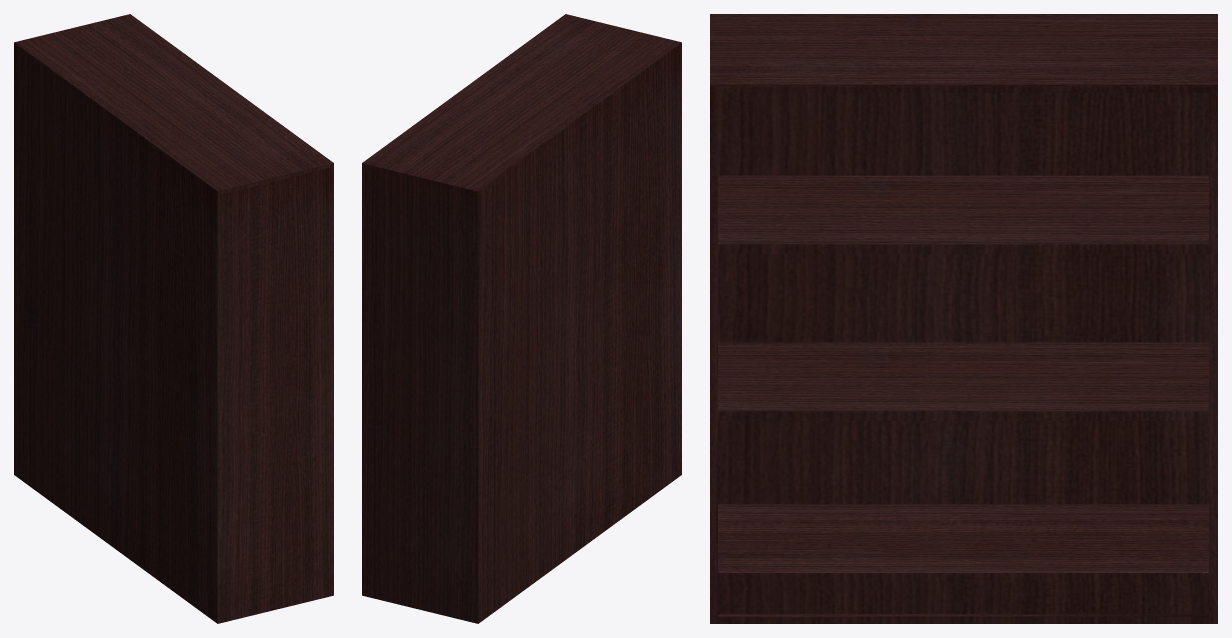
Rendered from bookcase_1.obj.
3 views of the same model, side by side, from view 1: azimuth 30°, elevation 25°; view 2: azimuth 150°, elevation 25°; view 3: azimuth 270°, elevation 25° (orthographic). The views are drawn at different scales.
Visible parts, largest first — view 1: bookcase_1; view 2: bookcase_1; view 3: bookcase_1.
Part boxes in pixels (left/top/right/bottom): bookcase_1: left=14, top=14, right=333, bottom=623; bookcase_1: left=362, top=14, right=681, bottom=623; bookcase_1: left=710, top=14, right=1217, bottom=623.
Size of the model in its own units: 1.97 by 7.01 by 5.98.
Materials: 1 (1 with a texture image).
